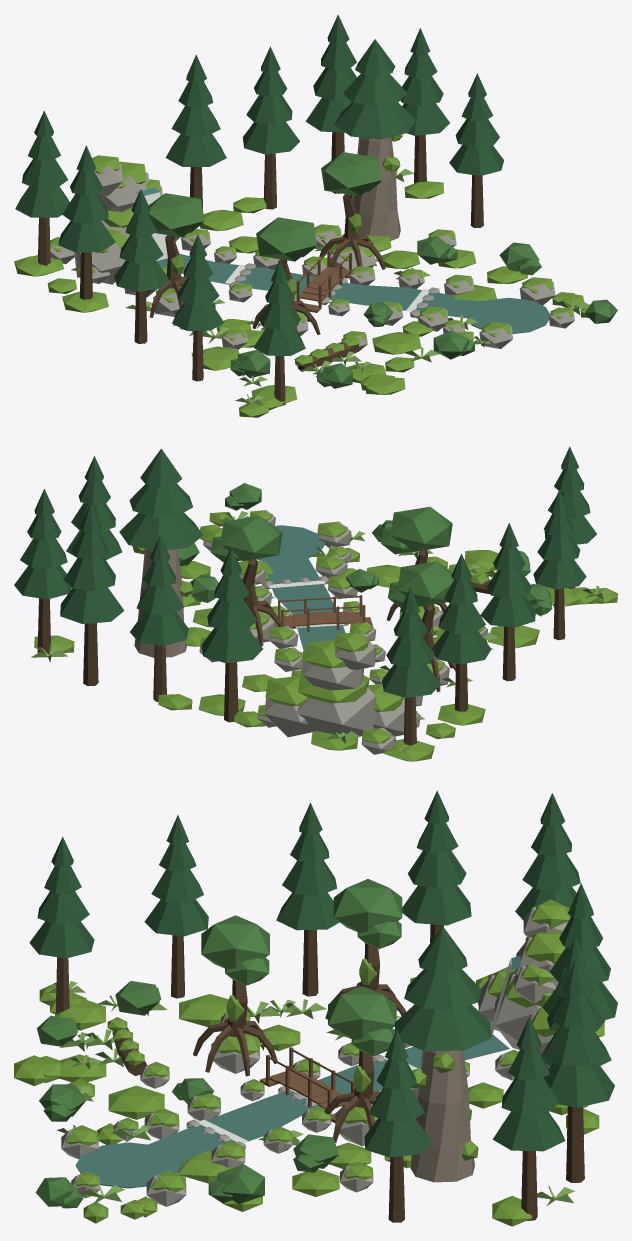
Rendered from shiratani-unsuikyo.glb.
3 renders of one model, top to bottom at view 1: azimuth 30°, elevation 25°; view 2: azimuth 150°, elevation 25°; view 3: azimuth 270°, elevation 25°, orthographic. The views are drawn at different scales.
Visible parts, largest first — view 1: shiratani_cedar, shiratani_moss, shiratani_leaf, shiratani_granite, shiratani_bark, shiratani_water, shiratani_barkpale, shiratani_fern, shiratani_wood, shiratani_foam; view 2: shiratani_cedar, shiratani_moss, shiratani_leaf, shiratani_granite, shiratani_bark, shiratani_water, shiratani_wood, shiratani_fern, shiratani_barkpale; view 3: shiratani_cedar, shiratani_moss, shiratani_leaf, shiratani_bark, shiratani_granite, shiratani_water, shiratani_barkpale, shiratani_fern, shiratani_wood, shiratani_foam.
Boxes of the visible parts, left/top/right/bottom form: shiratani_cedar: left=15, top=14, right=503, bottom=355; shiratani_moss: left=14, top=134, right=590, bottom=417; shiratani_leaf: left=148, top=152, right=617, bottom=388; shiratani_granite: left=50, top=164, right=574, bottom=351; shiratani_bark: left=38, top=132, right=483, bottom=406; shiratani_water: left=136, top=187, right=550, bottom=333; shiratani_barkpale: left=353, top=137, right=400, bottom=240; shiratani_fern: left=71, top=168, right=589, bottom=407; shiratani_wood: left=296, top=249, right=351, bottom=312; shiratani_foam: left=144, top=192, right=429, bottom=311; shiratani_cedar: left=14, top=446, right=596, bottom=697; shiratani_moss: left=34, top=510, right=617, bottom=761; shiratani_leaf: left=178, top=483, right=552, bottom=615; shiratani_granite: left=199, top=510, right=487, bottom=754; shiratani_bark: left=37, top=550, right=575, bottom=745; shiratani_water: left=257, top=525, right=345, bottom=650; shiratani_wood: left=275, top=595, right=373, bottom=632; shiratani_fern: left=31, top=511, right=612, bottom=743; shiratani_barkpale: left=134, top=549, right=187, bottom=657; shiratani_cedar: left=29, top=790, right=617, bottom=1157; shiratani_moss: left=14, top=899, right=604, bottom=1226; shiratani_leaf: left=35, top=879, right=402, bottom=1208; shiratani_bark: left=55, top=924, right=584, bottom=1222; shiratani_granite: left=61, top=906, right=568, bottom=1206; shiratani_water: left=75, top=955, right=520, bottom=1188; shiratani_barkpale: left=410, top=1050, right=474, bottom=1182; shiratani_fern: left=47, top=981, right=574, bottom=1205; shiratani_wood: left=260, top=1047, right=354, bottom=1122; shiratani_foam: left=199, top=959, right=510, bottom=1143.
Size of the model in its own units: 21.29 by 9.62 by 20.97.
